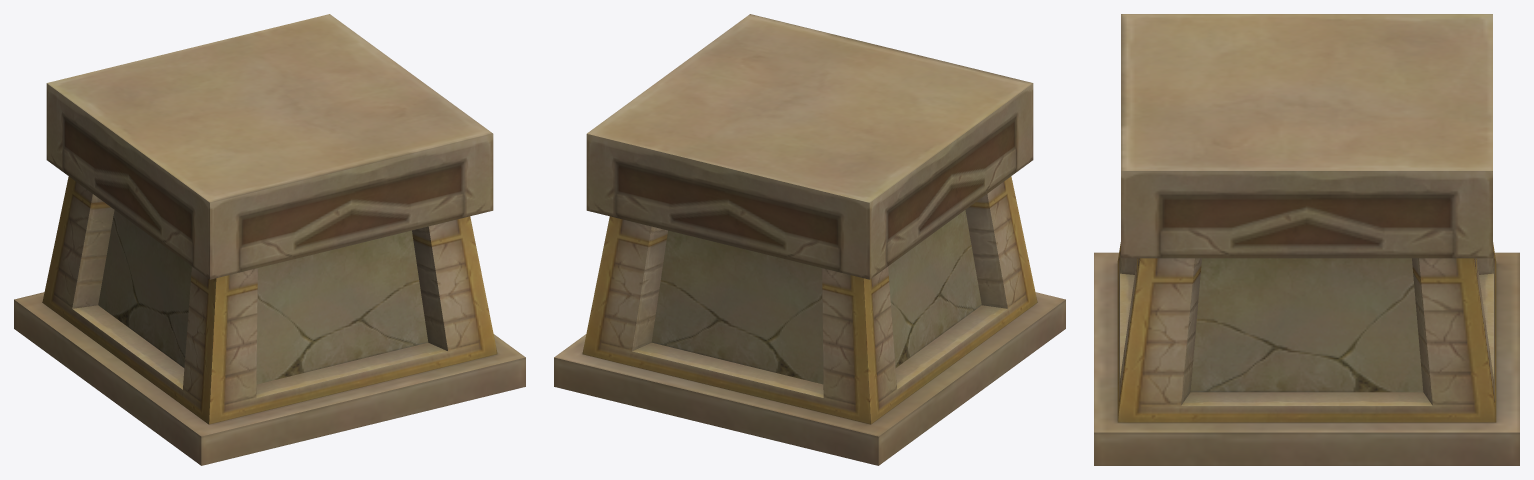
The model's file is Table02_Maincity_001.FBX.
3 renders of one model, left to right at view 1: azimuth 30°, elevation 25°; view 2: azimuth 150°, elevation 25°; view 3: azimuth 270°, elevation 25°, orthographic. The views are drawn at different scales.
Visible parts, largest first — view 1: Table02_Maincity_001; view 2: Table02_Maincity_001; view 3: Table02_Maincity_001.
Part boxes in pixels (x1,y1,x2,y2): Table02_Maincity_001: (14,14,525,465); Table02_Maincity_001: (554,14,1065,465); Table02_Maincity_001: (1094,14,1519,465).
Bounding box in the file's own units: 81.79 × 60.06 × 81.79.
1 material, 1 textured.
